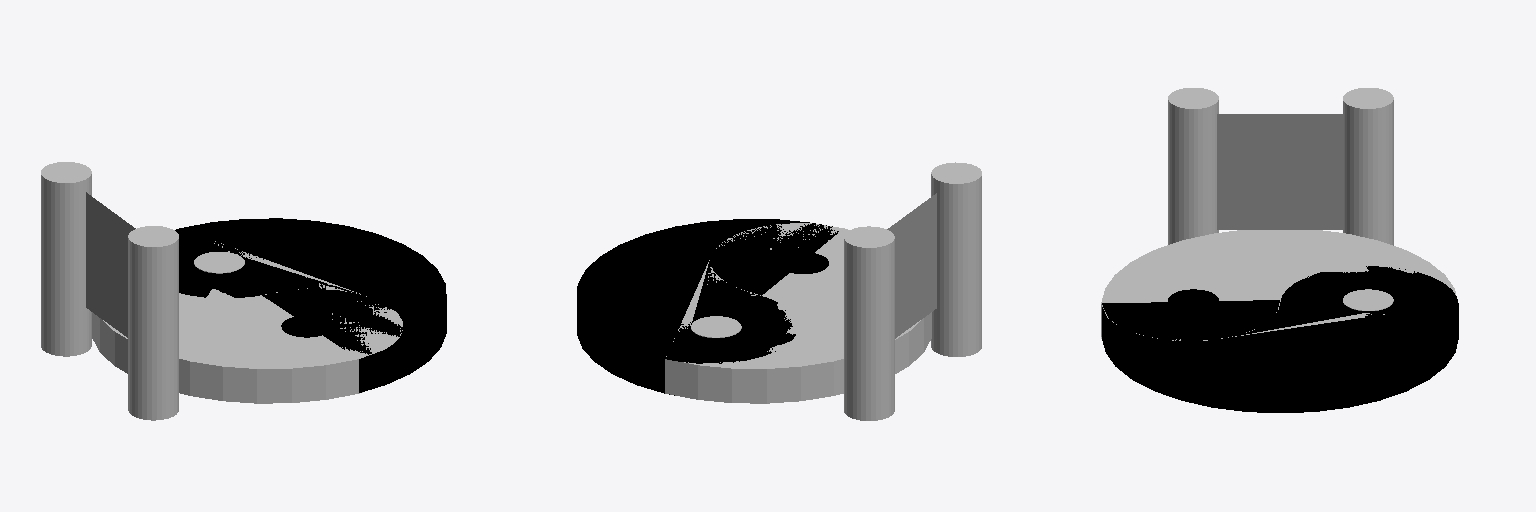
The model's file is yinyang-platform.obj.
The picture shows the model from 3 angles: view 1: azimuth 30°, elevation 25°; view 2: azimuth 150°, elevation 25°; view 3: azimuth 270°, elevation 25°; orthographic projection.
Visible parts, largest first — view 1: yin_Circle.003, yang_Circle, Circle.002_Circle.006, Circle.000_Circle.005, Plane_Plane.001, Circle.003_Circle.004, Circle.001_Circle.002; view 2: yin_Circle.003, yang_Circle, Circle.000_Circle.005, Circle.002_Circle.006, Plane_Plane.001, Circle.003_Circle.004, Circle.001_Circle.002; view 3: yin_Circle.003, yang_Circle, Plane_Plane.001, Circle.000_Circle.005, Circle.002_Circle.006, Circle.001_Circle.002, Circle.003_Circle.004.
Part boxes in pixels (x1,y1,x2,y2): yin_Circle.003: (175,218,446,392); yang_Circle: (92,241,402,403); Circle.002_Circle.006: (128,226,178,420); Circle.000_Circle.005: (41,162,91,356); Plane_Plane.001: (86,192,135,337); Circle.003_Circle.004: (281,315,331,337); Circle.001_Circle.002: (194,252,244,273); yin_Circle.003: (577,219,838,395); yang_Circle: (665,223,931,403); Circle.000_Circle.005: (844,226,894,420); Circle.002_Circle.006: (931,162,981,356); Plane_Plane.001: (887,193,936,338); Circle.003_Circle.004: (778,252,828,273); Circle.001_Circle.002: (691,316,741,337); yin_Circle.003: (1102,266,1458,412); yang_Circle: (1101,230,1455,340); Plane_Plane.001: (1217,114,1343,229); Circle.000_Circle.005: (1343,88,1393,245); Circle.002_Circle.006: (1168,88,1218,244); Circle.001_Circle.002: (1343,289,1393,310); Circle.003_Circle.004: (1168,289,1218,310).
Size of the model in its own units: 30.37 by 15 by 28.06.